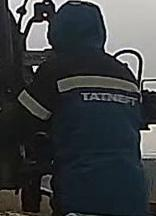vest: (32, 55, 143, 193)
